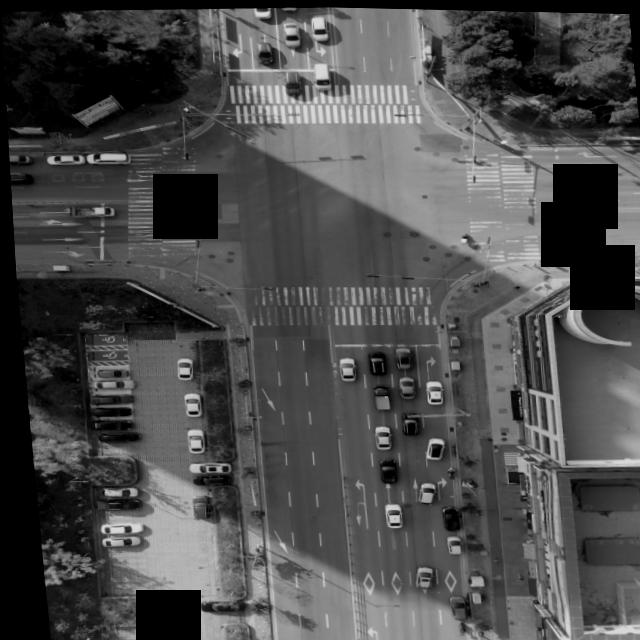car: (79, 151, 124, 165), (91, 431, 136, 445), (309, 61, 329, 91), (89, 499, 133, 512), (306, 14, 327, 40), (279, 70, 299, 96), (198, 599, 238, 612), (184, 496, 205, 520), (93, 523, 135, 535), (84, 405, 126, 417), (180, 428, 200, 453), (87, 420, 128, 432), (416, 435, 437, 458), (177, 392, 197, 416), (183, 462, 223, 474), (376, 501, 395, 526), (371, 457, 390, 482), (441, 594, 460, 619), (83, 394, 126, 405), (280, 21, 298, 47), (388, 345, 407, 369), (434, 505, 453, 529), (187, 475, 224, 487), (409, 482, 429, 504), (406, 565, 426, 587), (85, 378, 125, 389), (330, 357, 349, 380), (419, 381, 438, 404), (362, 350, 380, 374), (170, 358, 189, 380), (366, 425, 384, 448), (254, 41, 272, 64), (94, 536, 134, 546), (391, 377, 409, 399), (394, 413, 412, 435), (556, 243, 594, 253), (94, 489, 131, 499), (42, 154, 79, 164), (90, 368, 123, 378), (439, 534, 454, 552), (8, 171, 29, 182), (7, 154, 28, 164), (253, 6, 270, 18)
small_truck: (64, 207, 109, 220), (366, 385, 384, 410)
